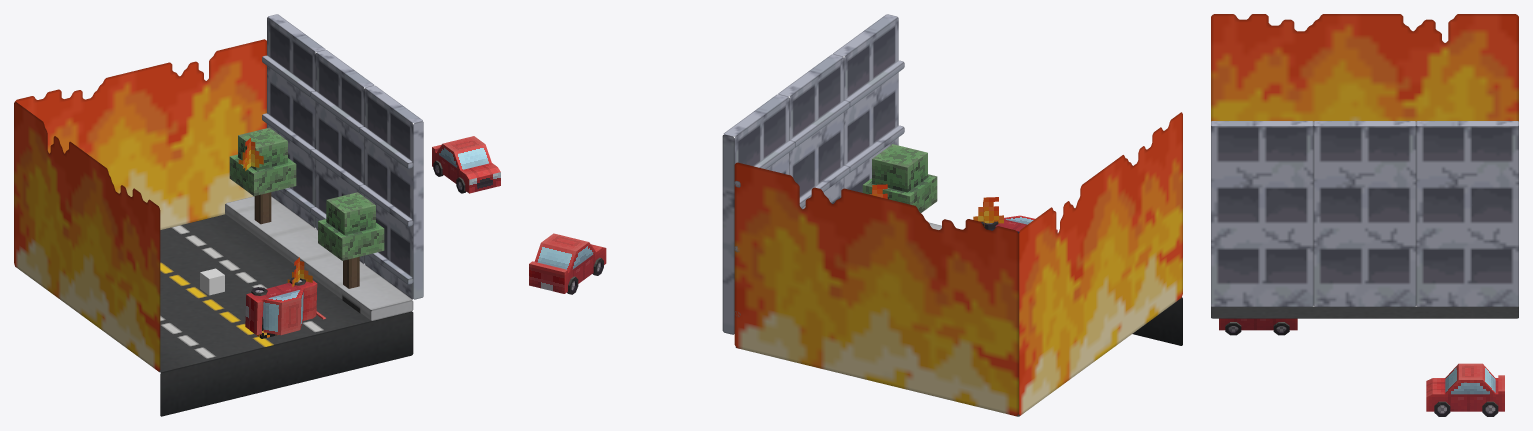
File: cornertl.fbx
3 renders of one model, left to right at view 1: azimuth 30°, elevation 25°; view 2: azimuth 150°, elevation 25°; view 3: azimuth 270°, elevation 25°, orthographic. The views are drawn at different scales.
Visible parts, largest first — view 1: floormain, cube_4, cube_3, building_3, building, building_2, tree_1, tree, carmain_1, carmain_2, builing-ledges_2, builing-ledges (+2 smaller); view 2: cube_4, cube_3, building_3, building_2, building, tree_1, carmain_2, builing-ledges_2, floormain, builing-ledges_1; view 3: cube_3, building_2, building, building_3, floormain, carmain_2, carmain, cube_2, cube.
Part boxes in pixels (box(x1,y1,x2,y2)): floormain: box(159, 196, 413, 416); cube_4: box(15, 39, 266, 229); cube_3: box(14, 101, 160, 371); building_3: box(364, 85, 423, 299); building: box(267, 14, 325, 227); building_2: box(316, 50, 373, 263); tree_1: box(318, 192, 384, 288); tree: box(229, 127, 296, 224); carmain_1: box(245, 280, 317, 335); carmain_2: box(432, 136, 500, 193); builing-ledges_2: box(359, 126, 413, 284); builing-ledges: box(262, 55, 314, 212); cube_4: box(734, 162, 1018, 416); cube_3: box(1019, 112, 1182, 415); building_3: box(833, 14, 898, 192); building_2: box(778, 54, 843, 209); building: box(722, 94, 789, 334); tree_1: box(862, 144, 937, 212); carmain_2: box(529, 233, 606, 293); builing-ledges_2: box(845, 60, 904, 172); floormain: box(735, 222, 1182, 416); builing-ledges_1: box(790, 100, 849, 208); cube_3: box(1211, 14, 1518, 121); building_2: box(1313, 121, 1416, 306); building: box(1416, 121, 1518, 306); building_3: box(1211, 121, 1313, 306); floormain: box(1211, 305, 1518, 318); carmain_2: box(1426, 363, 1504, 411); carmain: box(1219, 318, 1297, 330); cube_2: box(1434, 401, 1498, 416); cube: box(1225, 322, 1289, 335).
Size of the model in its own units: 527 by 262 by 300.
Materials: 7 (7 with a texture image).
